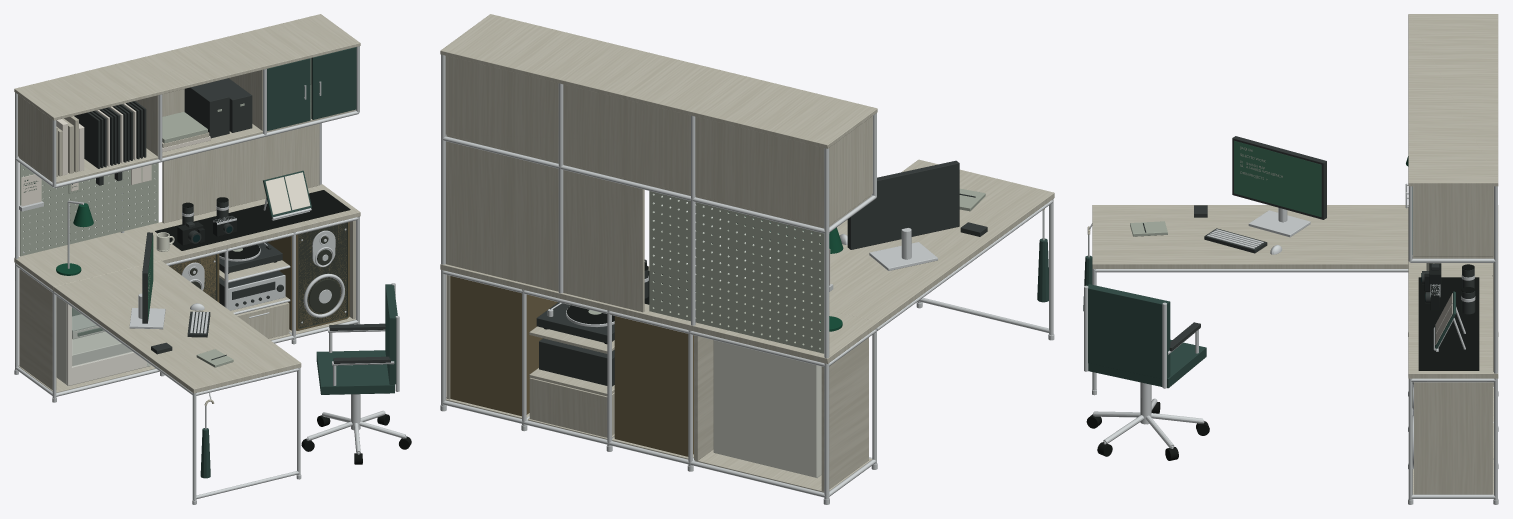
Rendered from workstation-v003.glb.
3 views of the same model, side by side, from view 1: azimuth 30°, elevation 25°; view 2: azimuth 150°, elevation 25°; view 3: azimuth 270°, elevation 25° (orthographic). The views are drawn at different scales.
Visible parts, largest first — view 1: Return_Desktop_28mm, Upper_Top, Rear_Right_Backing, Pegboard_Perforated_21x14, Rear_Counter_28mm, Rear_Tube_Frame_22mm, Record_Sleeves_Upper, Upper_Tube_Frame_22mm, Computer_Cabinet_Left_Side_Panel, Speaker_Right_Baffle, Upper_Cabinet_Door_Right, HOTSPOT_camera_group (+37 smaller); view 2: Upper_Back, Rear_Right_Backing, Upper_Top, Pegboard_Perforated_21x14, Return_Desktop_28mm, Computer_Interior_back_panel, Speaker_Right_Cabinet, Speaker_Left_Cabinet, Rear_Tube_Frame_22mm, Upper_Tube_Frame_22mm, HOTSPOT_monitor, Computer_Cabinet_Left_Side_Panel (+13 smaller); view 3: Return_Desktop_28mm, Upper_Top, Rear_Right_End_Panel, Chair_Back, Upper_Divider_04, Monitor_Screen, HOTSPOT_camera_group, Rear_Counter_28mm, Chair_Metal_Frame, Rear_Tube_Frame_22mm, Chair_Seat, Upper_Tube_Frame_22mm (+5 smaller).
Boxes of the visible parts, <box> form: Return_Desktop_28mm: <box>54,260,301,393</box>; Upper_Top: <box>14,14,360,120</box>; Rear_Right_Backing: <box>162,123,319,223</box>; Pegboard_Perforated_21x14: <box>19,163,158,256</box>; Rear_Counter_28mm: <box>14,184,360,290</box>; Rear_Tube_Frame_22mm: <box>14,216,360,402</box>; Record_Sleeves_Upper: <box>74,101,146,168</box>; Upper_Tube_Frame_22mm: <box>15,46,359,258</box>; Computer_Cabinet_Left_Side_Panel: <box>19,269,56,389</box>; Speaker_Right_Baffle: <box>298,222,347,328</box>; Upper_Cabinet_Door_Right: <box>311,47,356,119</box>; HOTSPOT_camera_group: <box>155,190,350,250</box>; Upper_Back: <box>445,56,824,226</box>; Rear_Right_Backing: <box>446,141,644,312</box>; Upper_Top: <box>440,14,877,148</box>; Pegboard_Perforated_21x14: <box>649,191,824,353</box>; Return_Desktop_28mm: <box>745,159,1054,326</box>; Computer_Interior_back_panel: <box>713,340,817,477</box>; Speaker_Right_Cabinet: <box>450,276,557,416</box>; Speaker_Left_Cabinet: <box>614,316,693,456</box>; Rear_Tube_Frame_22mm: <box>440,270,877,504</box>; Upper_Tube_Frame_22mm: <box>441,54,876,358</box>; HOTSPOT_monitor: <box>847,160,959,249</box>; Computer_Cabinet_Left_Side_Panel: <box>821,337,868,491</box>; Return_Desktop_28mm: <box>1092,205,1408,268</box>; Upper_Top: <box>1408,14,1498,186</box>; Rear_Right_End_Panel: <box>1414,382,1492,494</box>; Chair_Back: <box>1087,284,1170,378</box>; Upper_Divider_04: <box>1413,186,1493,256</box>; Monitor_Screen: <box>1234,140,1321,217</box>; HOTSPOT_camera_group: <box>1418,277,1479,370</box>; Rear_Counter_28mm: <box>1408,205,1498,378</box>; Chair_Metal_Frame: <box>1084,285,1203,448</box>; Rear_Tube_Frame_22mm: <box>1408,332,1498,504</box>; Chair_Seat: <box>1088,339,1206,388</box>; Upper_Tube_Frame_22mm: <box>1408,186,1497,373</box>.
Bounding box in the file's own units: 2.06 × 1.82 × 2.13.
24 materials, 1 textured.
